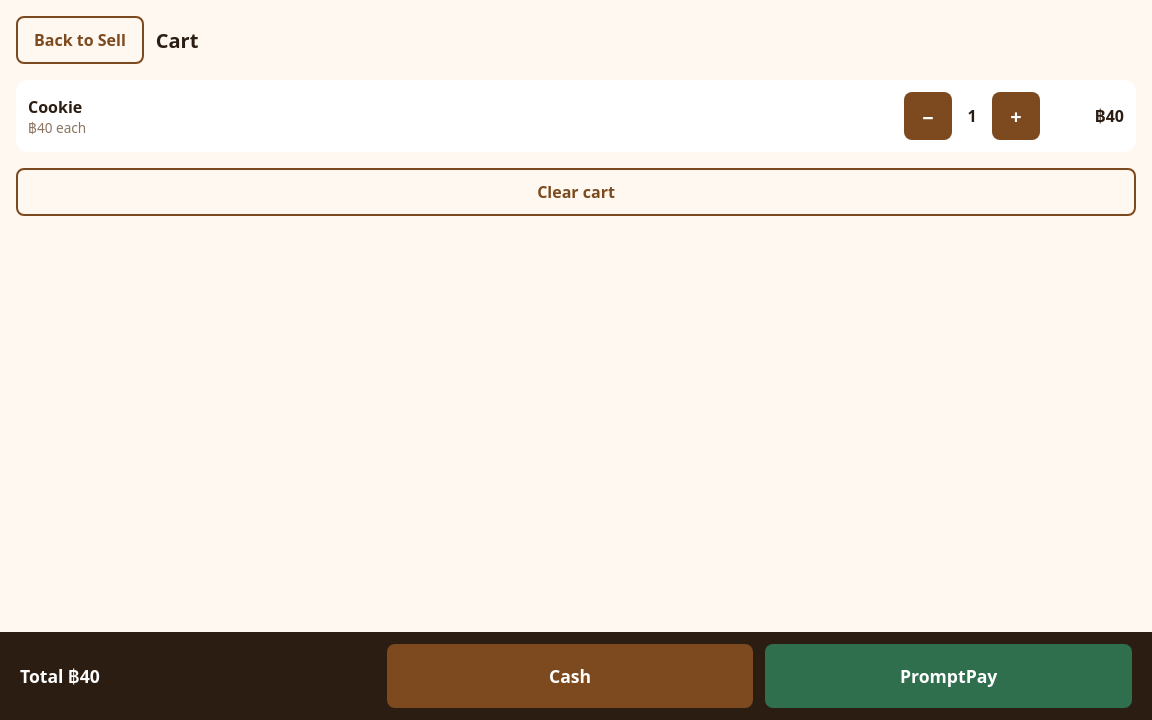
Scenario: CartScreen › (h) with the confirm open, stepping the last line to 0 closes it
Click the button "Clear cart" at (576, 192), box [16,168,1136,216]
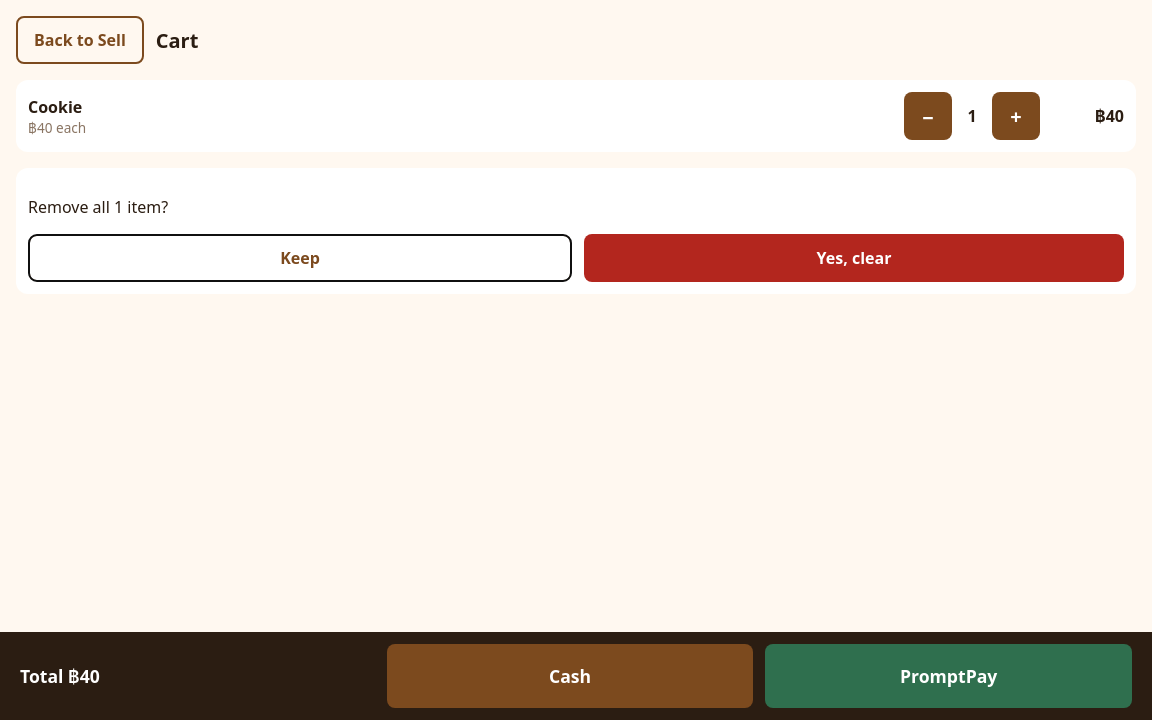
Result: the element named "Clear cart?" is shown at [16,168,1136,294]
Click the button named "Remove one Cookie" at (928, 116), box [904,92,952,140]
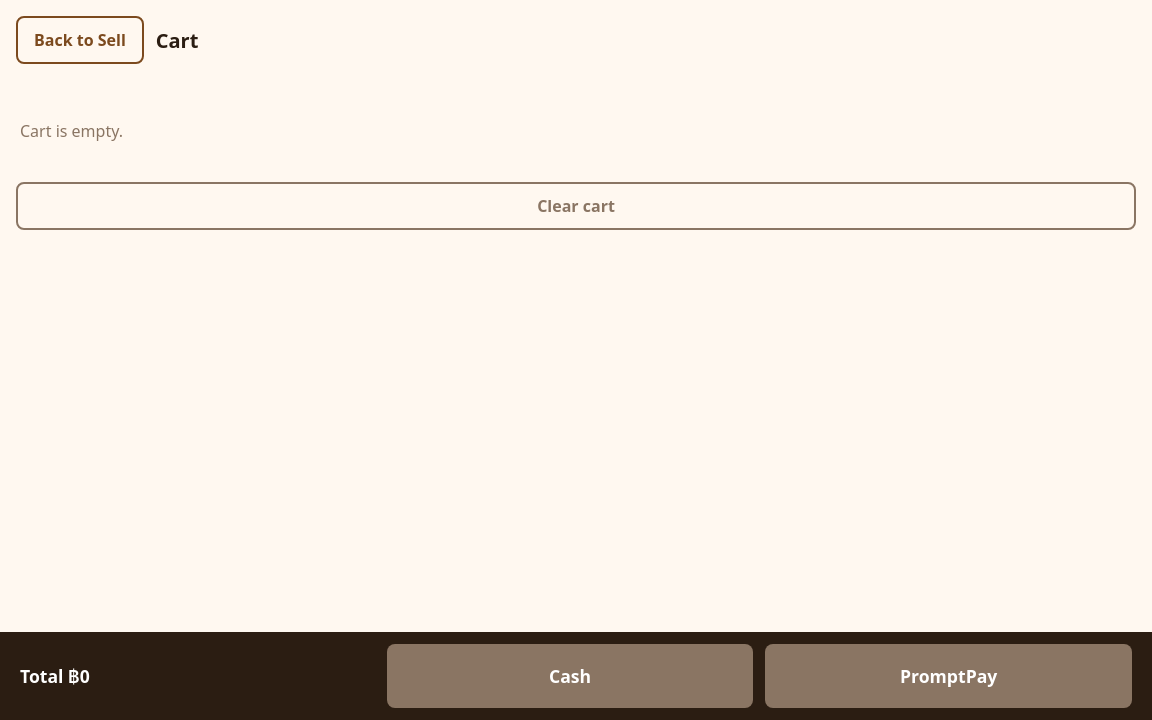
Result: the text "Cart is empty." is shown at [20,120,123,142]
